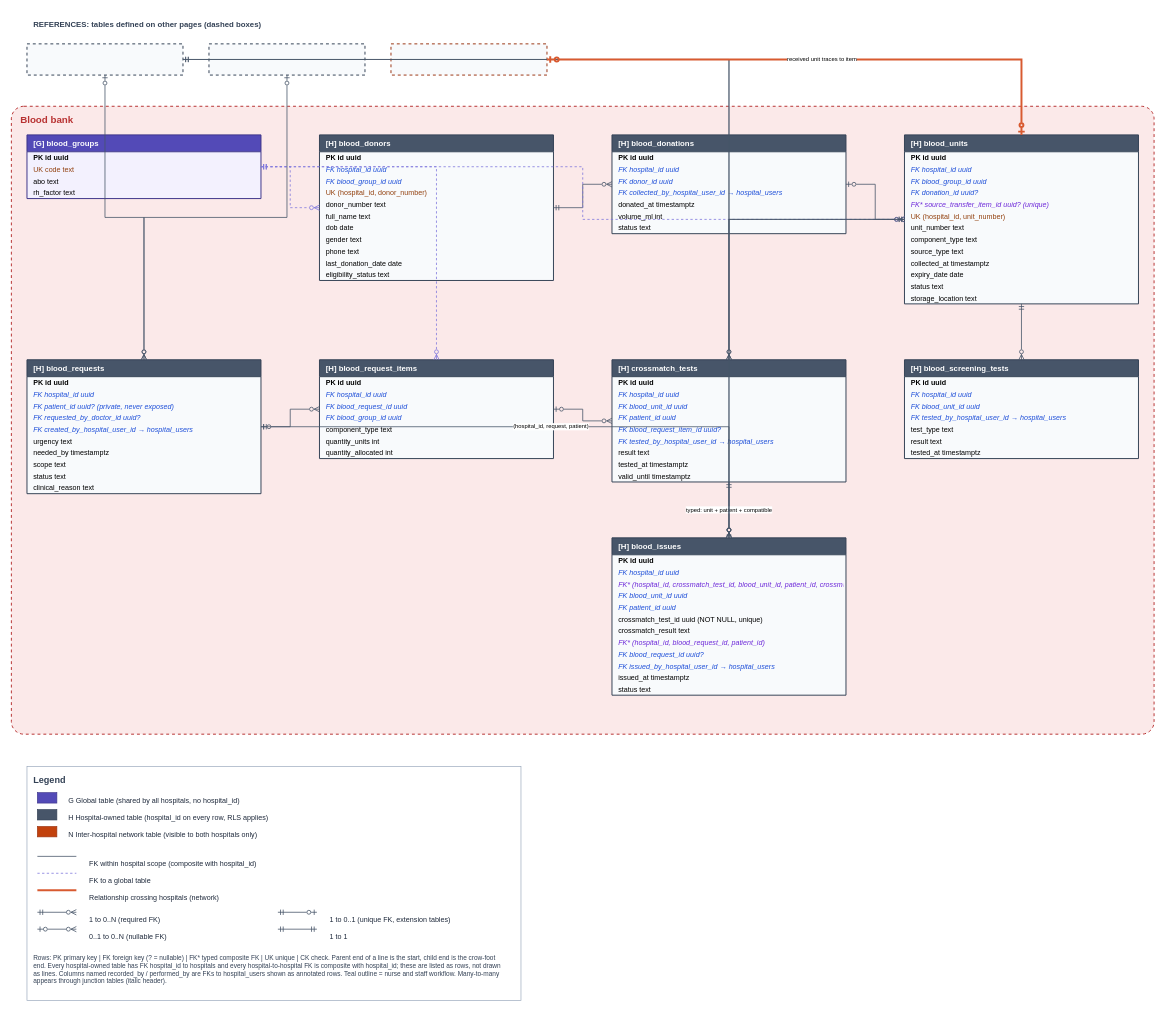
Image size: 1166x1012. Some labels were removed from this diagram. Each missing label, with the centre of its shape:
"blood_transfer_items (reference, defined on page 8)" goes at (468,59).
"doctors (reference, defined on page 3)" goes at (286,59).
"patients (reference, defined on page 3)" goes at (104,59).
